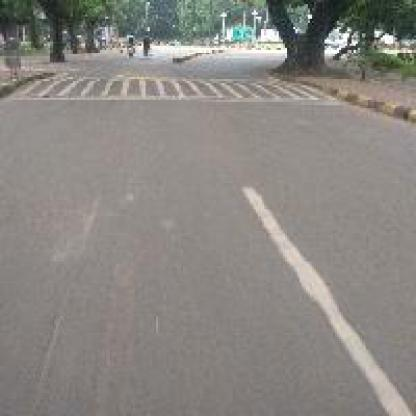Speed Bump: (16, 73, 324, 104)
